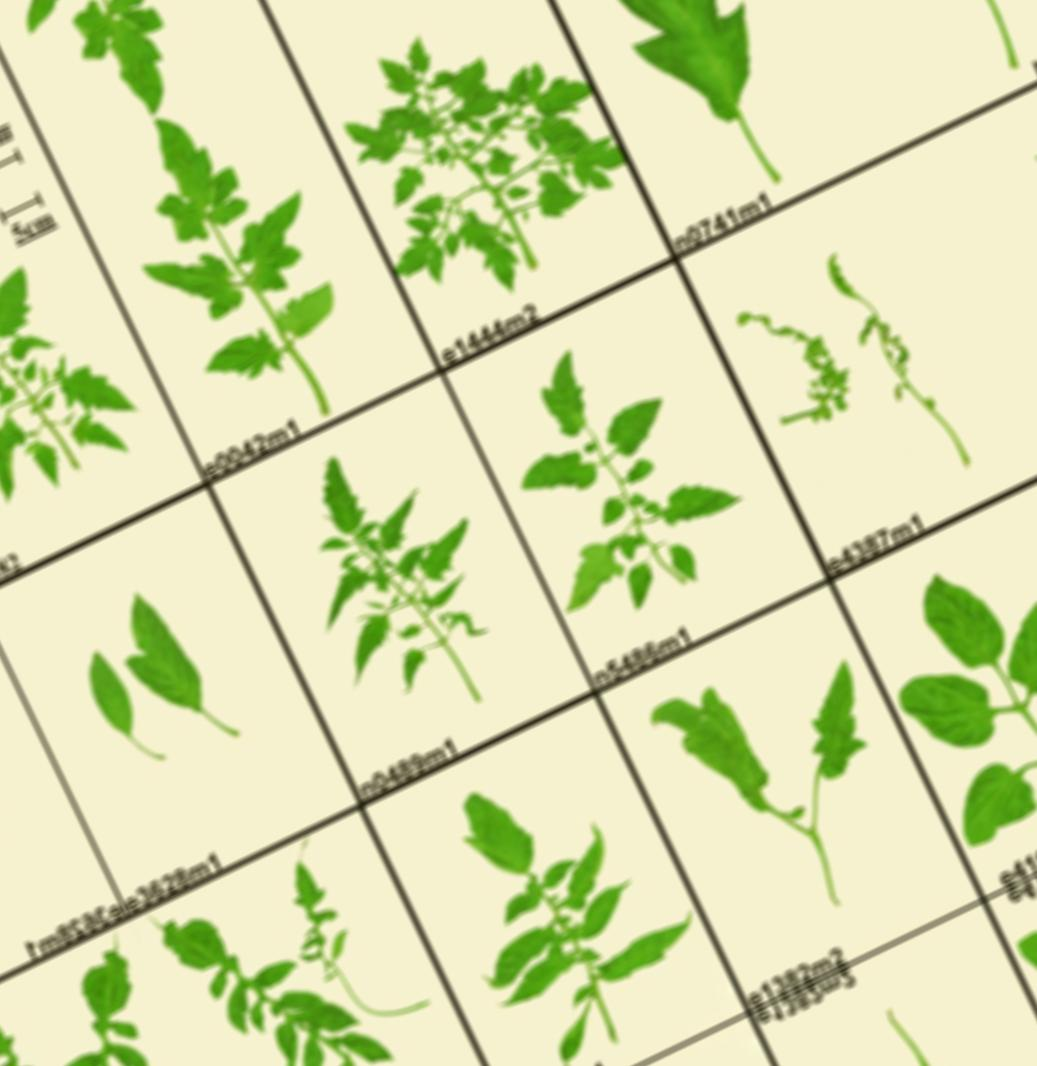Tomato leaf: (555, 0, 803, 160), (122, 102, 254, 256), (137, 231, 249, 345), (217, 183, 330, 294), (519, 337, 604, 451), (259, 274, 366, 362), (295, 439, 382, 542), (586, 387, 687, 469)
